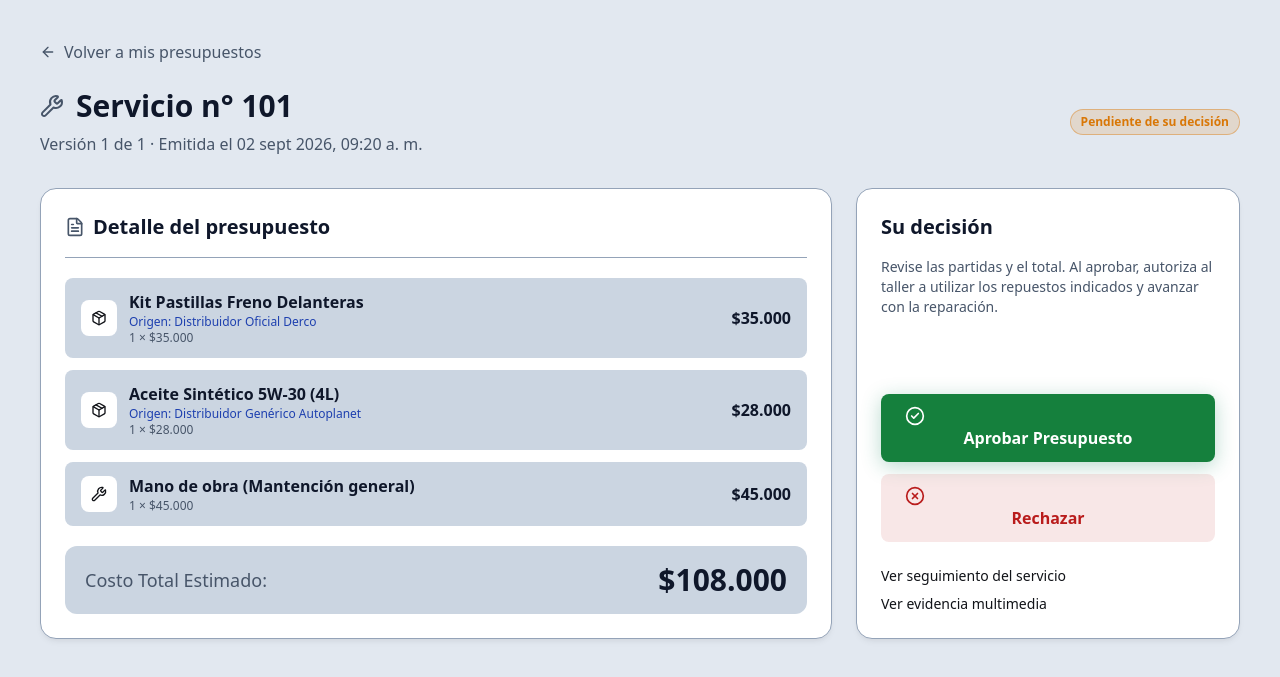
Scenario: ClientBudgetDetailPage: aprobación y rechazo del presupuesto › un 503 con decisión guardada ofrece aplicar su ID sin volver a decidir
Step 1. Click the button "Aprobar Presupuesto" → {"x": 1048, "y": 428}, box [881,394,1215,462]
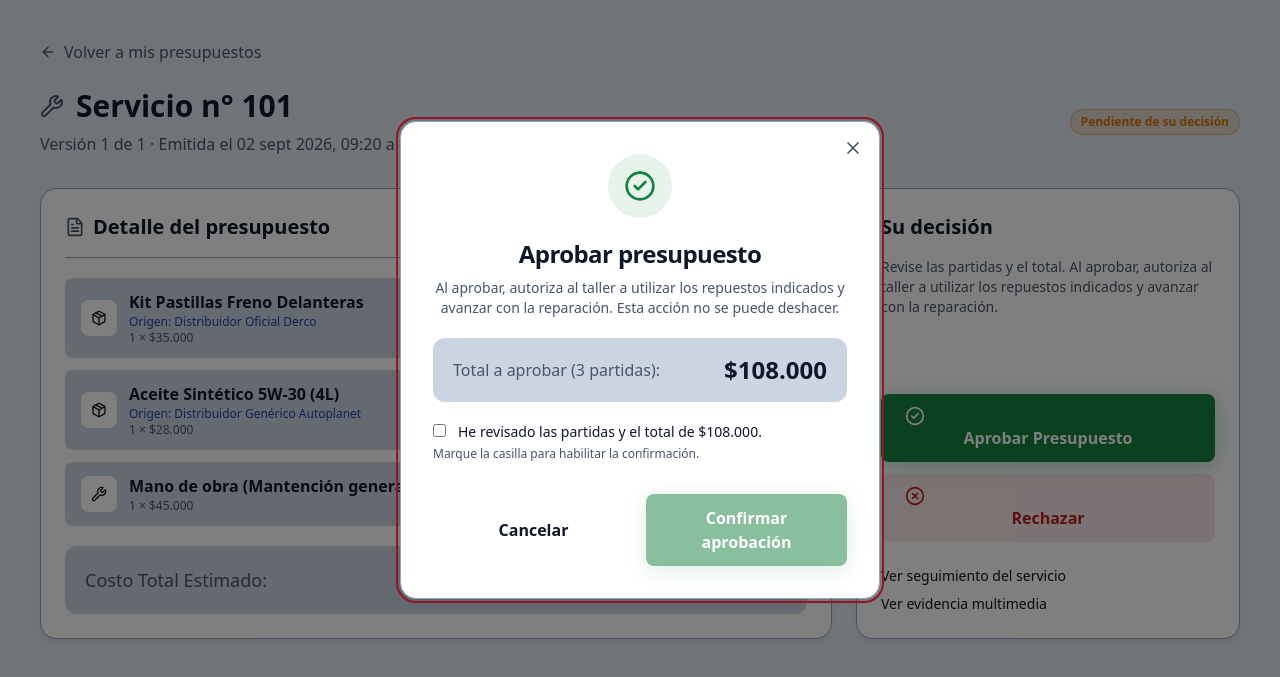
Step 2. Click the checkbox labelled "He revisado las partidas y el total de $108.000." → {"x": 440, "y": 430}, box [433,424,446,437]
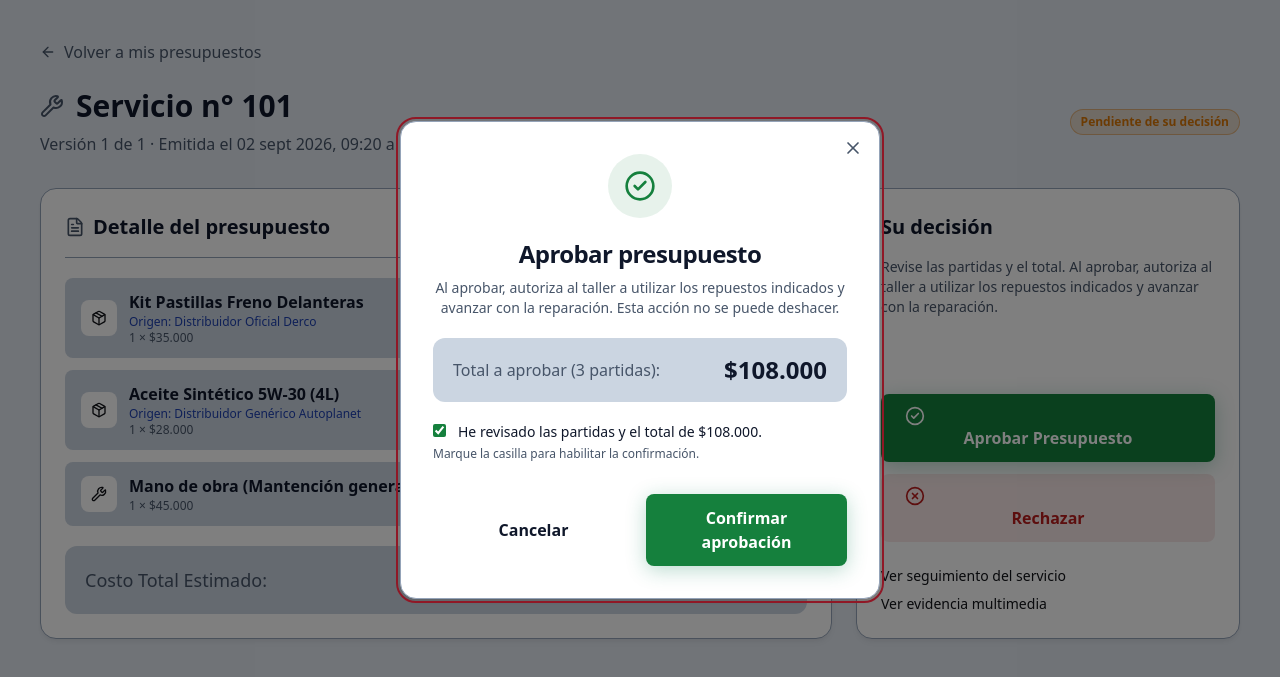
Step 3. Click the button "Confirmar aprobación" → {"x": 746, "y": 530}, box [646,494,847,566]
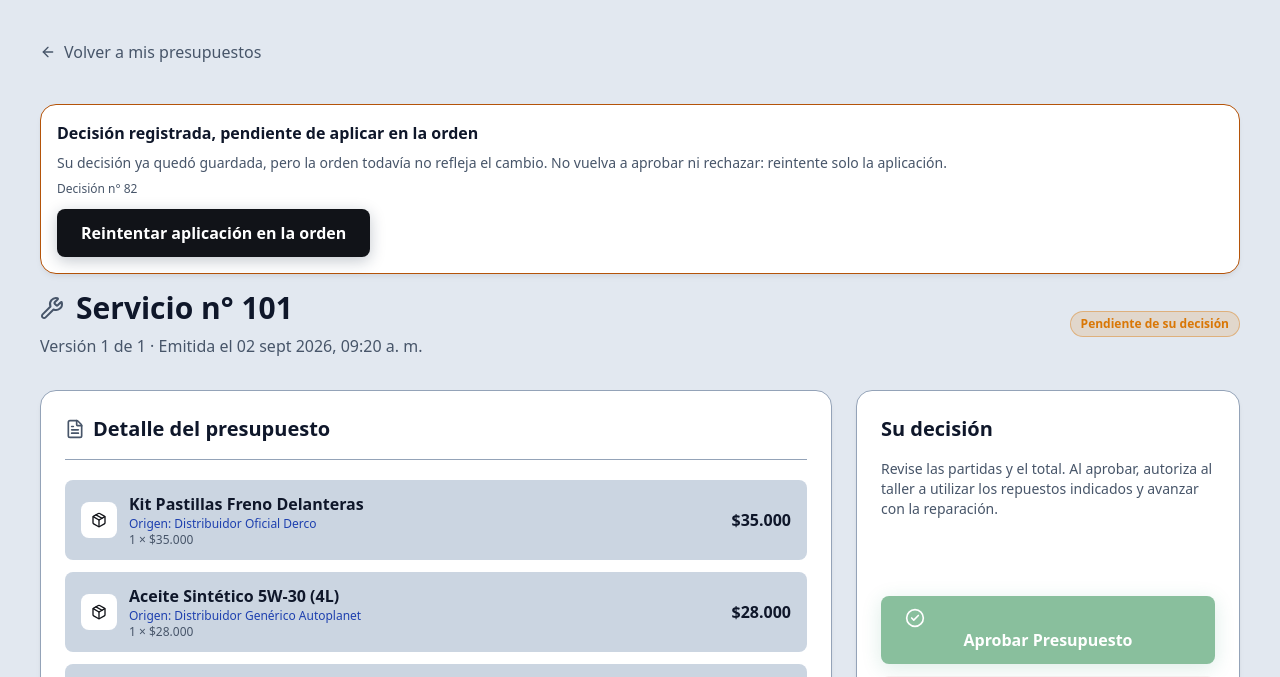
Expected: the button "Reintentar aplicación en la orden" is shown, [57,209,370,257]
Expected: the text "Decisión n° 82" is shown, [57,180,137,197]
Expected: the dialog is gone
